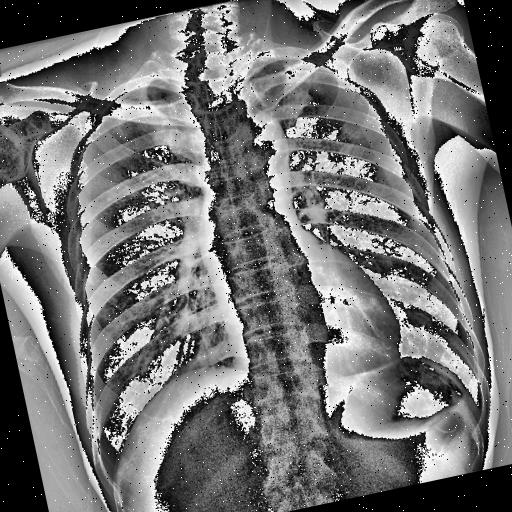13- Pulmonary fibrosis: (311, 72, 372, 149)
6- Infiltration: (311, 72, 372, 149), (319, 106, 371, 164), (304, 62, 338, 96), (108, 109, 138, 142), (110, 120, 136, 144)
7- Lung Opacity: (96, 104, 139, 147), (336, 100, 374, 144)
